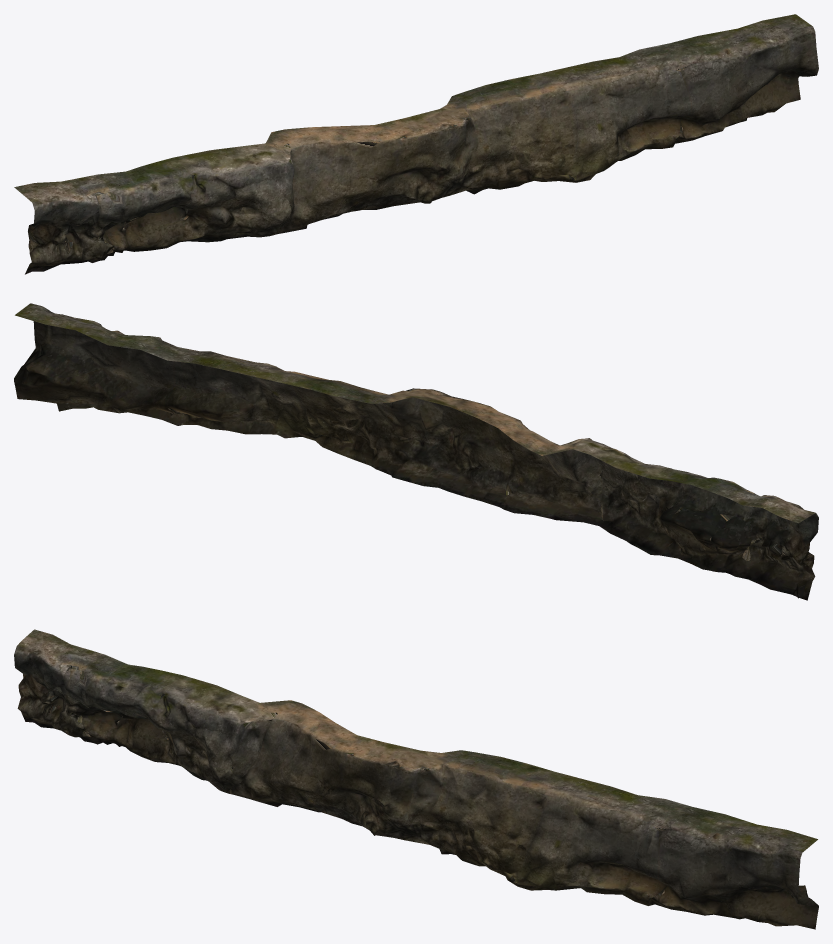
The model's file is vach-bien.glb.
3 views of the same model, one above another, from view 1: azimuth 30°, elevation 25°; view 2: azimuth 150°, elevation 25°; view 3: azimuth 330°, elevation 25° (orthographic). The views are drawn at different scales.
Parts seen in each view (by area): view 1: coastal_cliff_01; view 2: coastal_cliff_01; view 3: coastal_cliff_01.
Boxes of the visible parts, <box> form: coastal_cliff_01: <box>14,14,818,274</box>; coastal_cliff_01: <box>14,303,818,600</box>; coastal_cliff_01: <box>14,629,818,929</box>.
Size of the model in its own units: 0.9984 by 0.1107 by 0.1187.
1 material, 1 textured.
